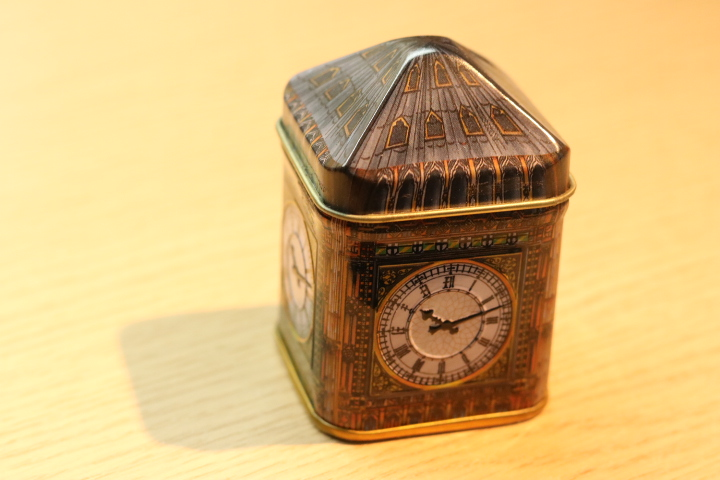Big Ben: (261, 20, 604, 450)
